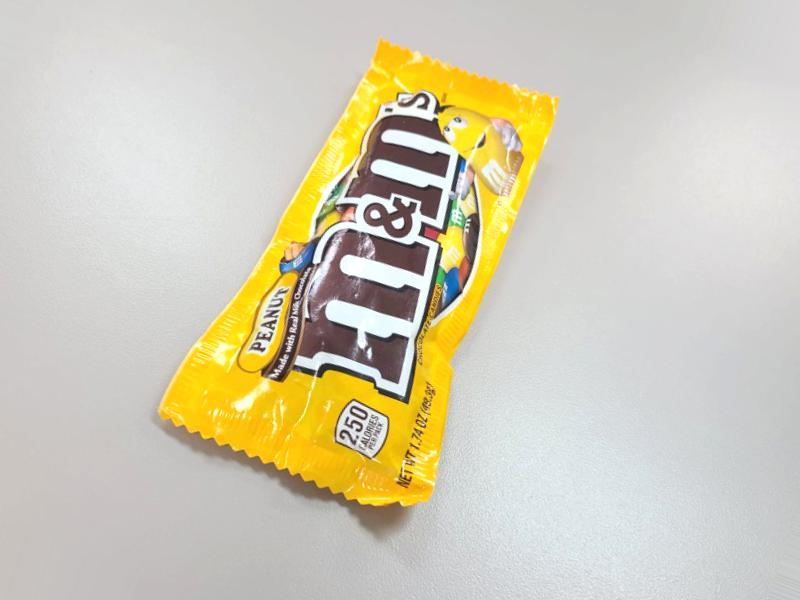m&m: (119, 83, 572, 544)
